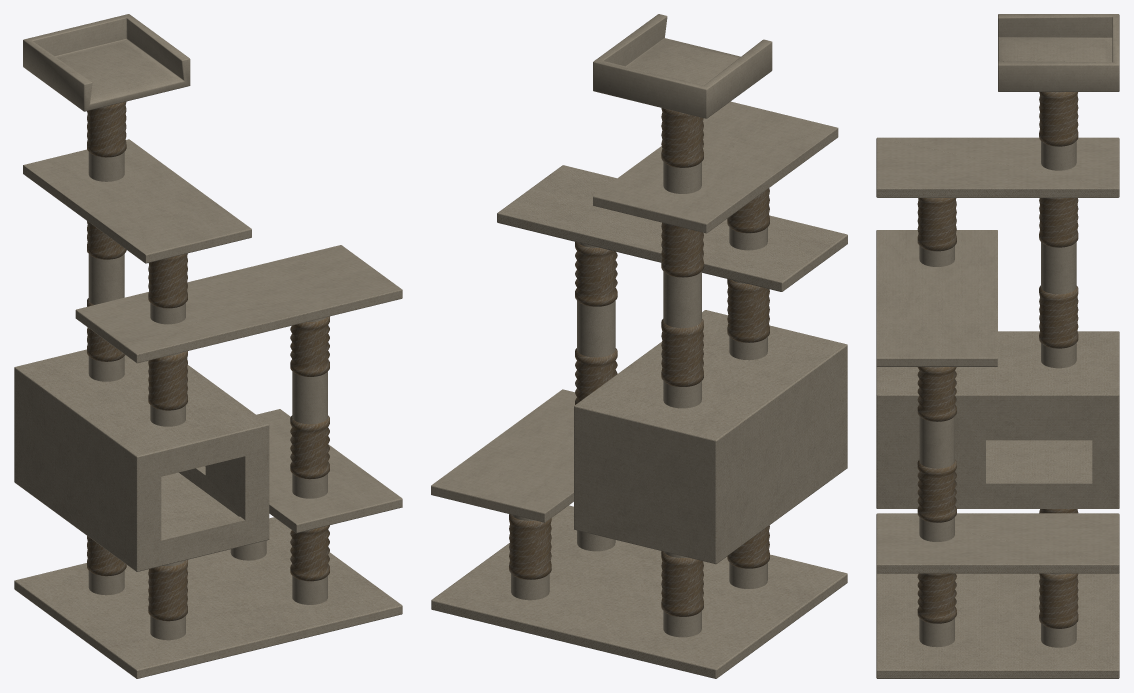
Rendered from Cat_tree.gltf.
3 views of the same model, side by side, from view 1: azimuth 30°, elevation 25°; view 2: azimuth 150°, elevation 25°; view 3: azimuth 270°, elevation 25° (orthographic). The views are drawn at different scales.
Parts seen in each view (by area): view 1: Cylinder.013; view 2: Cylinder.013; view 3: Cylinder.013.
Boxes of the visible parts, x1,y1,x2,y2 form: Cylinder.013: [14, 14, 402, 678]; Cylinder.013: [431, 14, 847, 678]; Cylinder.013: [876, 14, 1119, 678].
Bounding box in the file's own units: 0.762 × 1.5 × 0.6096.
2 materials, 2 textured.
